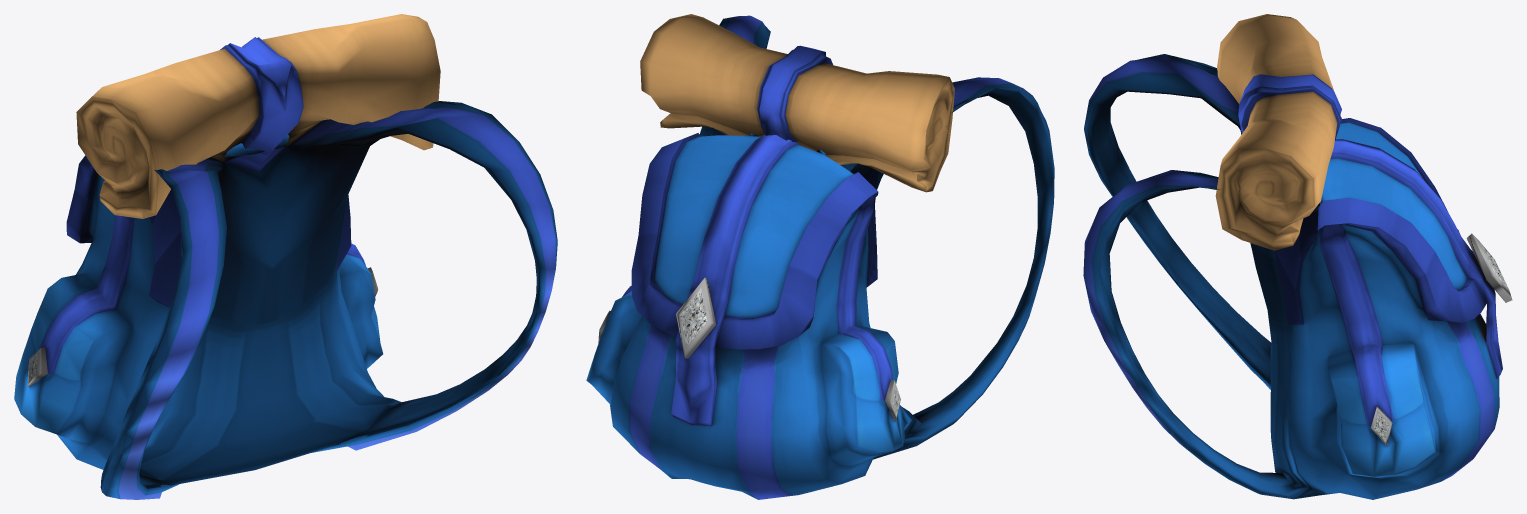
File: avtar bag.fbx
The picture shows the model from 3 angles, left to right: view 1: azimuth 30°, elevation 25°; view 2: azimuth 150°, elevation 25°; view 3: azimuth 270°, elevation 25°; orthographic projection. The views are drawn at different scales.
Visible parts, largest first — view 1: M_BackPack_LOD0; view 2: M_BackPack_LOD0; view 3: M_BackPack_LOD0.
Part boxes in pixels (box(x1,y1,x2,y2)): M_BackPack_LOD0: box(14, 14, 557, 499); M_BackPack_LOD0: box(586, 14, 1054, 499); M_BackPack_LOD0: box(1083, 14, 1512, 499).
Size of the model in its own units: 65.99 by 68 by 67.91.
1 material, 1 textured.
